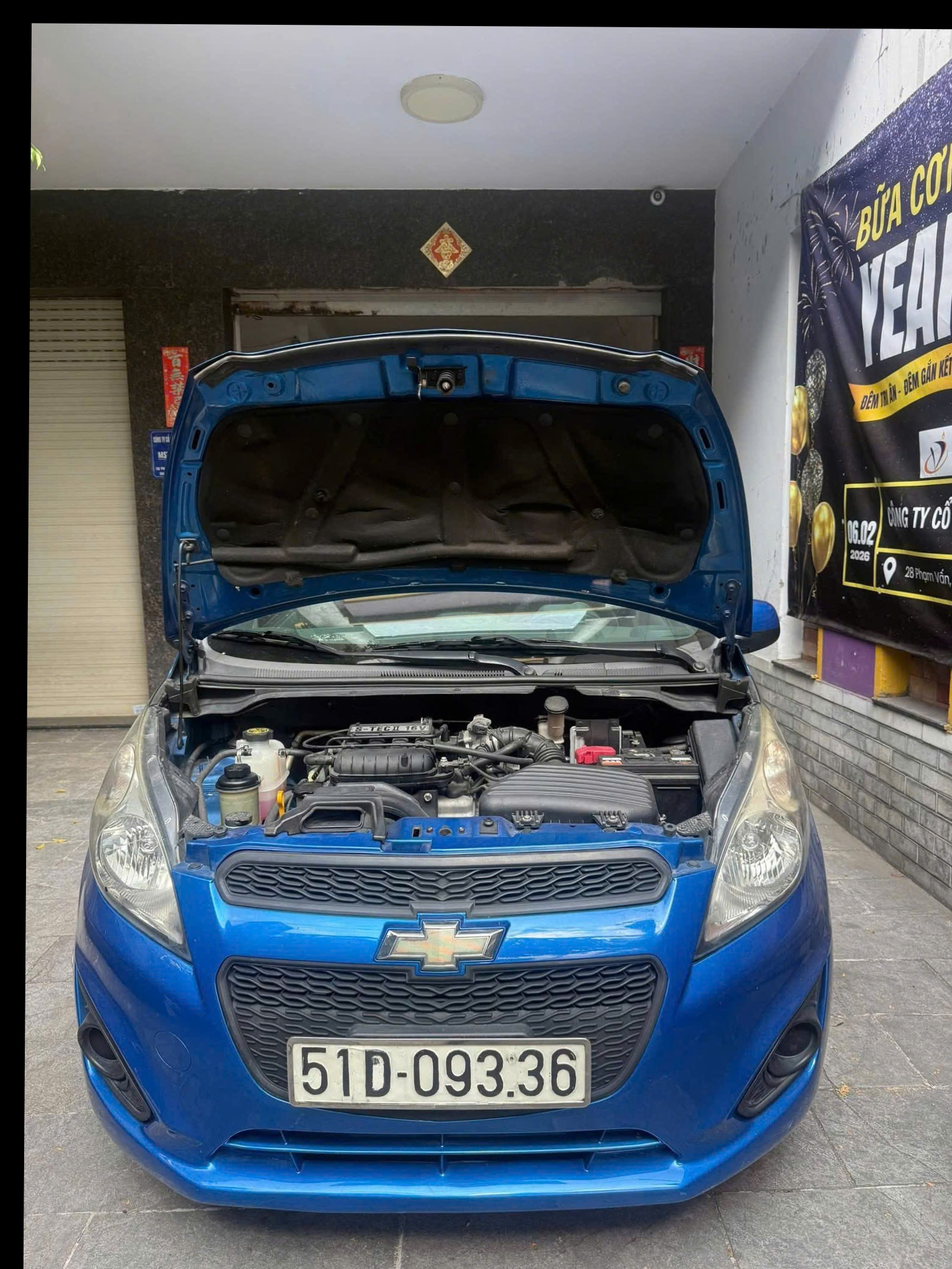Bien-so: (277, 1024, 573, 1085)
